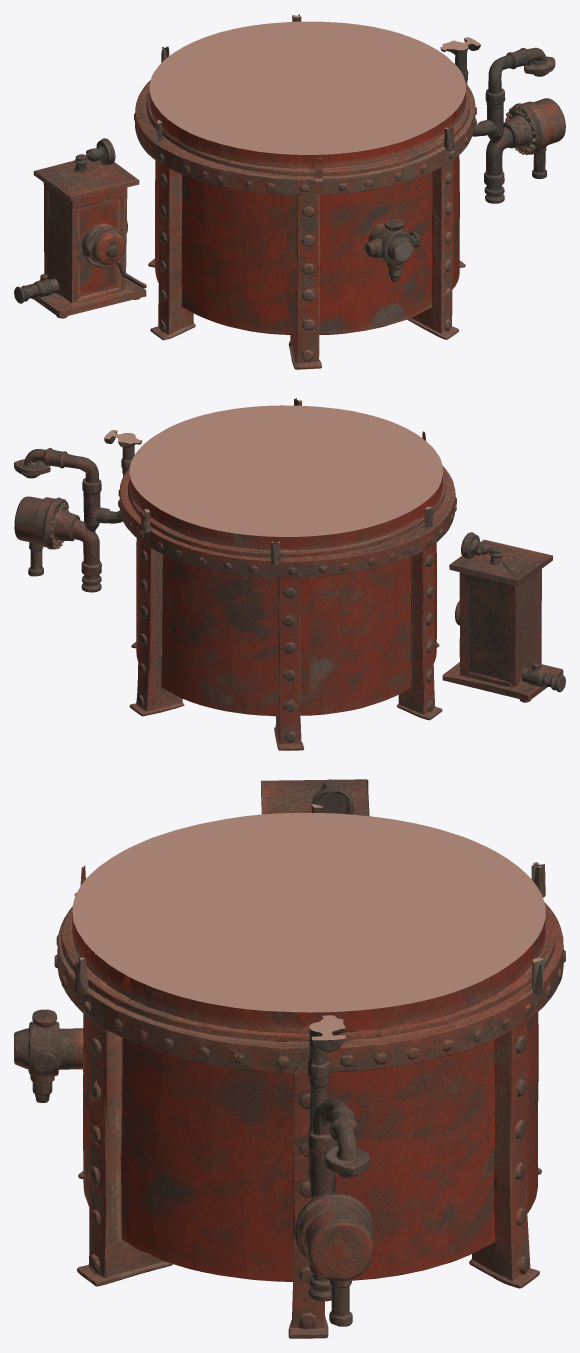
Rendered from cilindro_base.glb.
The picture shows the model from 3 angles, top to bottom: view 1: azimuth 30°, elevation 25°; view 2: azimuth 150°, elevation 25°; view 3: azimuth 270°, elevation 25°; orthographic projection. The views are drawn at different scales.
Parts seen in each view (by area): view 1: cilindro_base; view 2: cilindro_base; view 3: cilindro_base.
Part boxes in pixels (left/top/right/bottom): cilindro_base: left=14, top=14, right=565, bottom=369; cilindro_base: left=14, top=398, right=565, bottom=750; cilindro_base: left=14, top=779, right=565, bottom=1338.
Size of the model in its own units: 2.29 by 0.8493 by 1.35.
2 materials, 1 textured.
